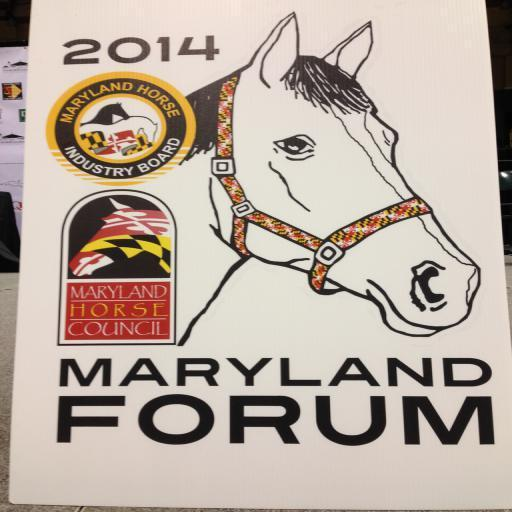horse: (176, 10, 486, 346)
